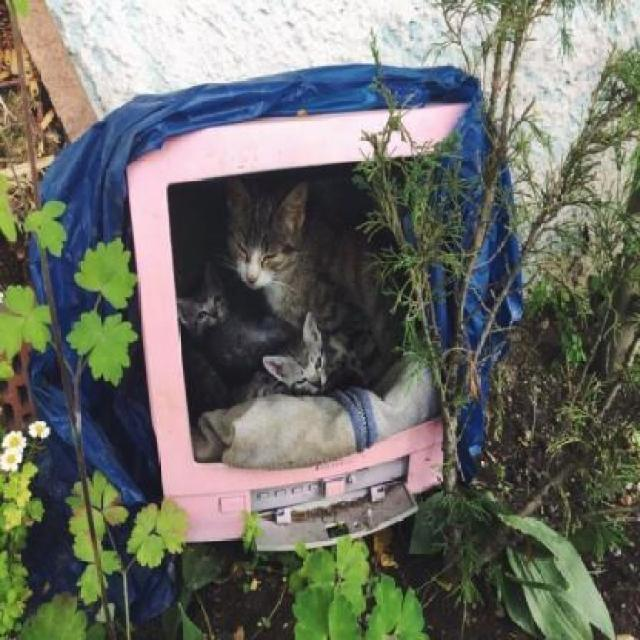cat: (220, 181, 402, 364), (174, 248, 297, 368), (239, 310, 330, 399)
